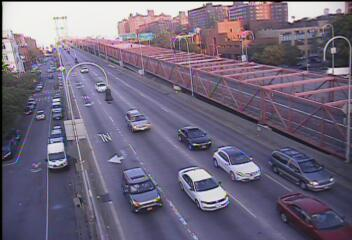neg: (70, 50, 83, 67), (59, 39, 69, 53)
